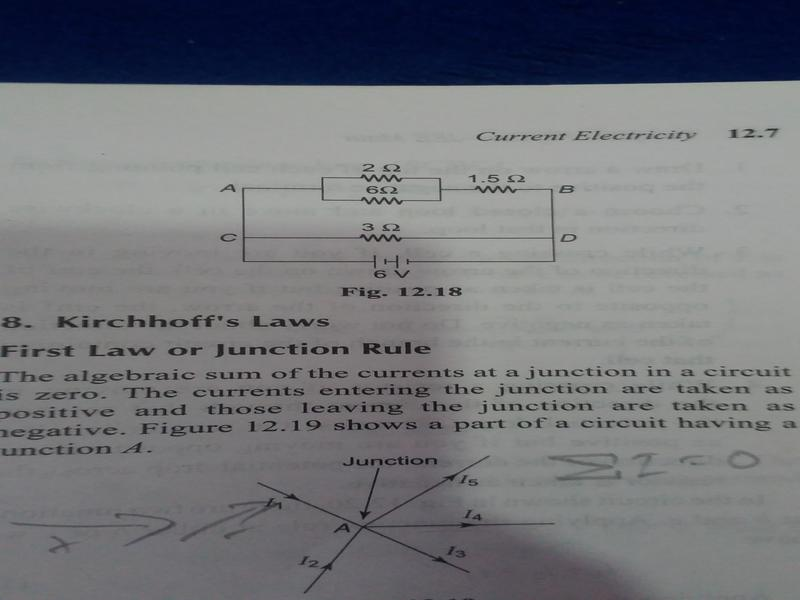resistor: (349, 226, 414, 248), (347, 191, 415, 212), (346, 166, 413, 187), (467, 180, 528, 198)
